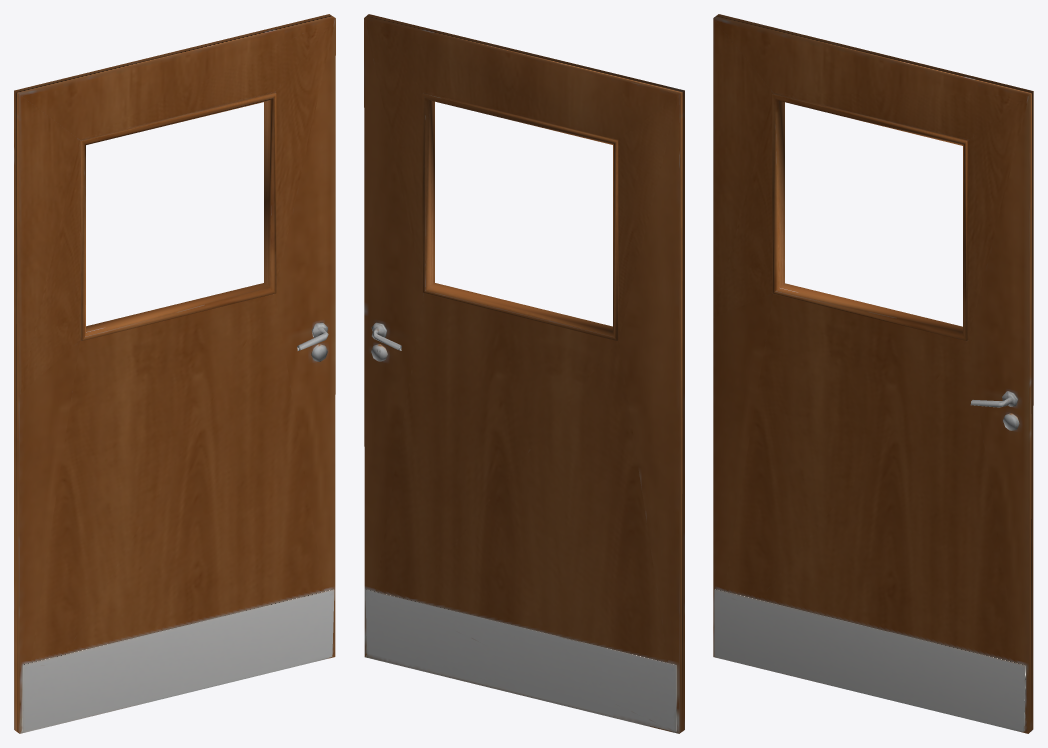
File: Meshy_AI_low_poly_wooden_door_20261030_texture.obj
3 renders of one model, left to right at view 1: azimuth 30°, elevation 25°; view 2: azimuth 150°, elevation 25°; view 3: azimuth 330°, elevation 25°, orthographic.
Parts seen in each view (by area): view 1: Meshy_AI_low_poly_wooden_door_20261030_texture; view 2: Meshy_AI_low_poly_wooden_door_20261030_texture; view 3: Meshy_AI_low_poly_wooden_door_20261030_texture.
Boxes of the visible parts, x1,y1,x2,y2 form: Meshy_AI_low_poly_wooden_door_20261030_texture: [14, 14, 335, 733]; Meshy_AI_low_poly_wooden_door_20261030_texture: [364, 14, 684, 733]; Meshy_AI_low_poly_wooden_door_20261030_texture: [713, 14, 1033, 733].
Bounding box in the file's own units: 0.4917 × 0.9502 × 0.0791.
Materials: 1 (1 with a texture image).
